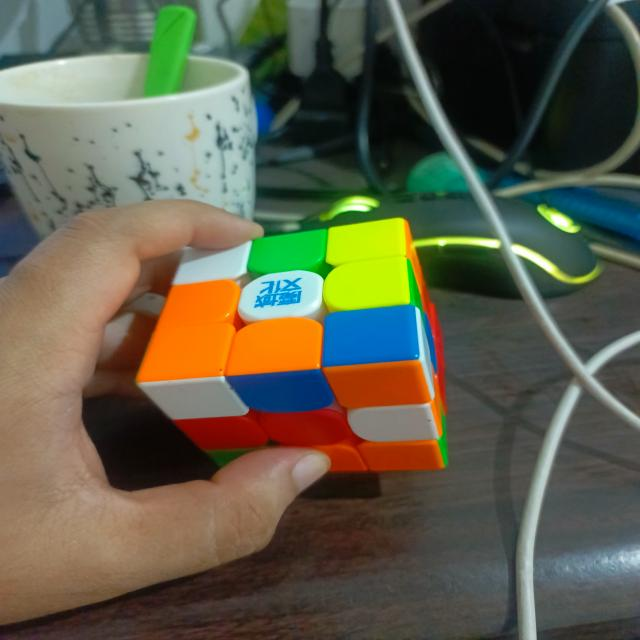rubik: (134, 216, 451, 474)
